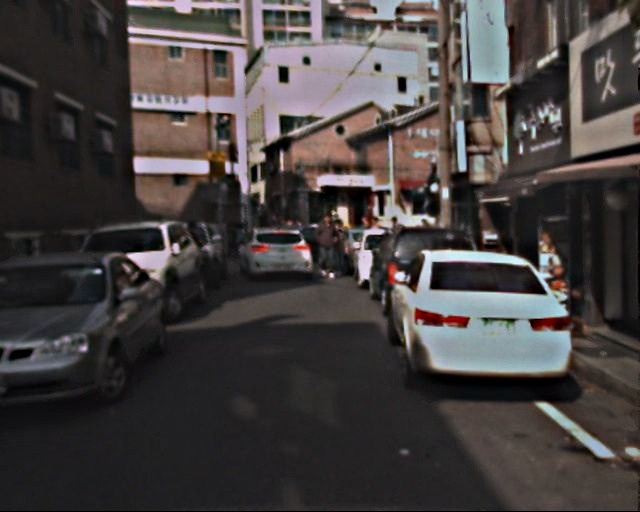person: (312, 212, 339, 278), (331, 219, 354, 275)
